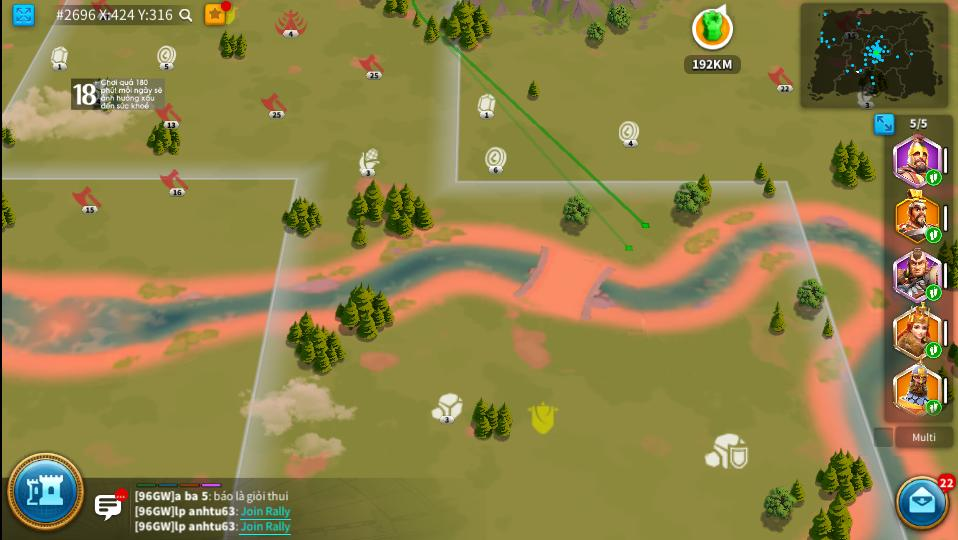gem-z-out: (476, 93, 498, 118), (50, 45, 67, 69)
march_marching: (925, 228, 942, 242), (926, 170, 940, 185), (927, 400, 941, 415), (926, 285, 940, 299), (928, 343, 940, 357)
